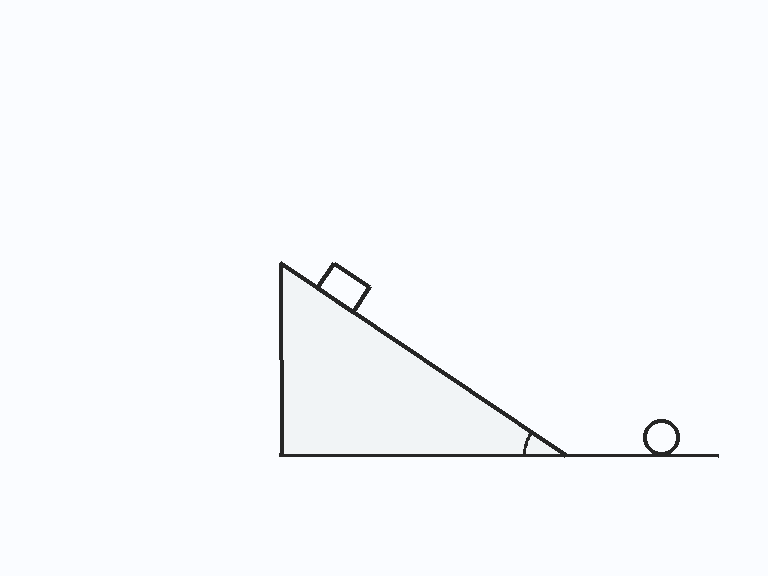ball: (641, 417, 681, 457)
block: (315, 261, 371, 314)
ramp: (278, 262, 566, 457)
